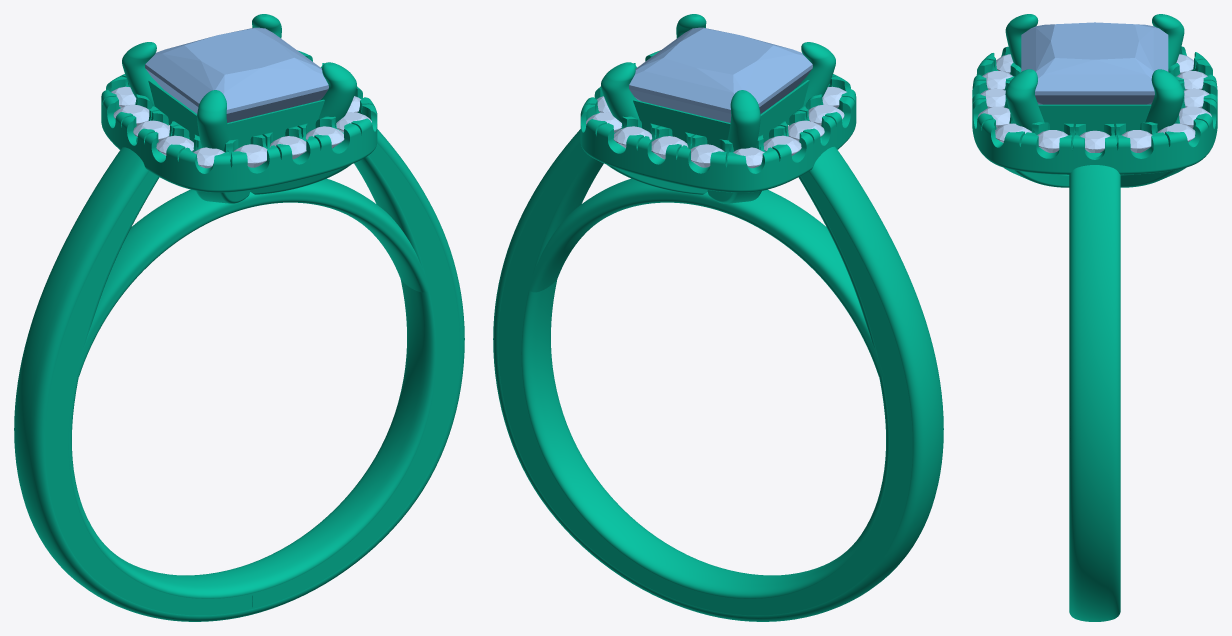
The picture shows the model from 3 angles, left to right: view 1: azimuth 30°, elevation 25°; view 2: azimuth 150°, elevation 25°; view 3: azimuth 270°, elevation 25°; orthographic projection.
Parts seen in each view (by area): view 1: JTC 6546(front).3dm, Diamond_Princess; view 2: JTC 6546(front).3dm, Diamond_Princess; view 3: JTC 6546(front).3dm, Diamond_Princess, Diamond_Round (×9).
Part boxes in pixels (left/top/right/bottom): JTC 6546(front).3dm: left=14, top=14, right=464, bottom=621; Diamond_Princess: left=145, top=27, right=328, bottom=122; JTC 6546(front).3dm: left=493, top=14, right=943, bottom=621; Diamond_Princess: left=629, top=27, right=812, bottom=122; JTC 6546(front).3dm: left=972, top=14, right=1217, bottom=621; Diamond_Princess: left=1021, top=22, right=1168, bottom=104; Diamond_Round (×9): left=978, top=71, right=1211, bottom=152.
Bounding box in the file's own units: 2.41 × 2.96 × 1.19.
